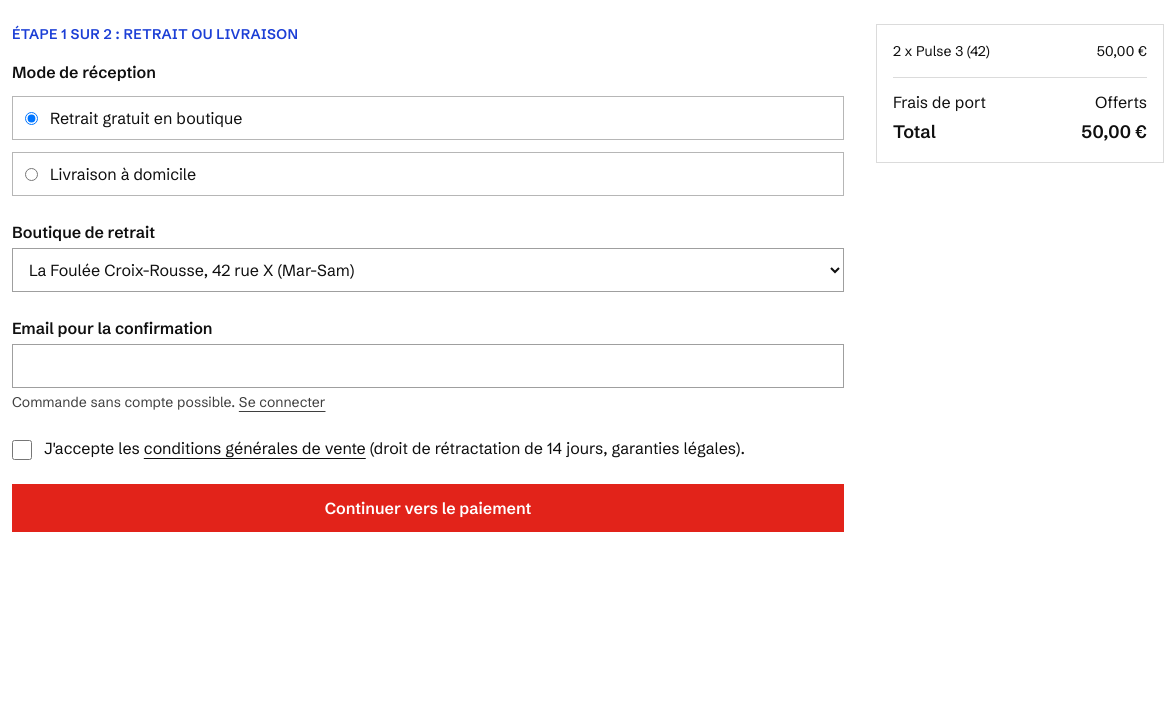
Test: Checkout (EF05, EF06) › stock épuisé entre-temps : message de l'API affiché
Type "lea@exemple.fr" into the field labelled "Email pour la confirmation".
click(428, 366); type("lea@exemple.fr")  # box top-left (12, 344), bottom-right (844, 388)
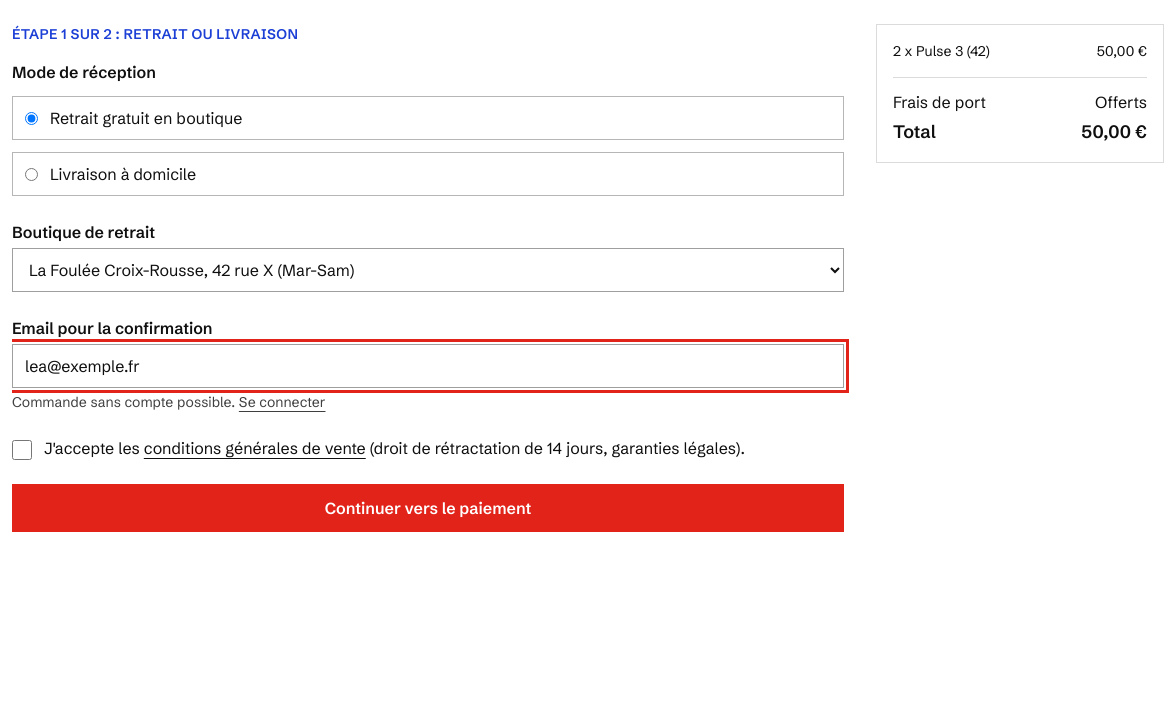
Click the checkbox labelled "conditions générales de vente".
click(22, 450)  # box top-left (12, 440), bottom-right (32, 460)
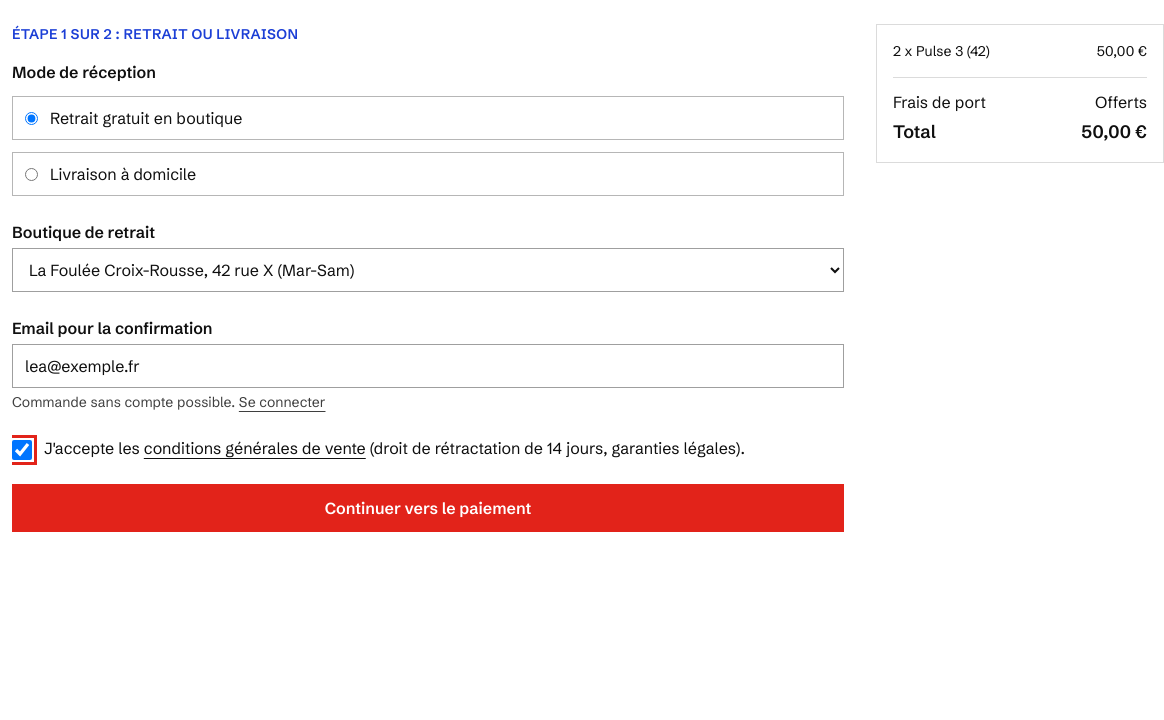
Click the button "Continuer vers le paiement".
click(428, 508)  # box top-left (12, 484), bottom-right (844, 532)
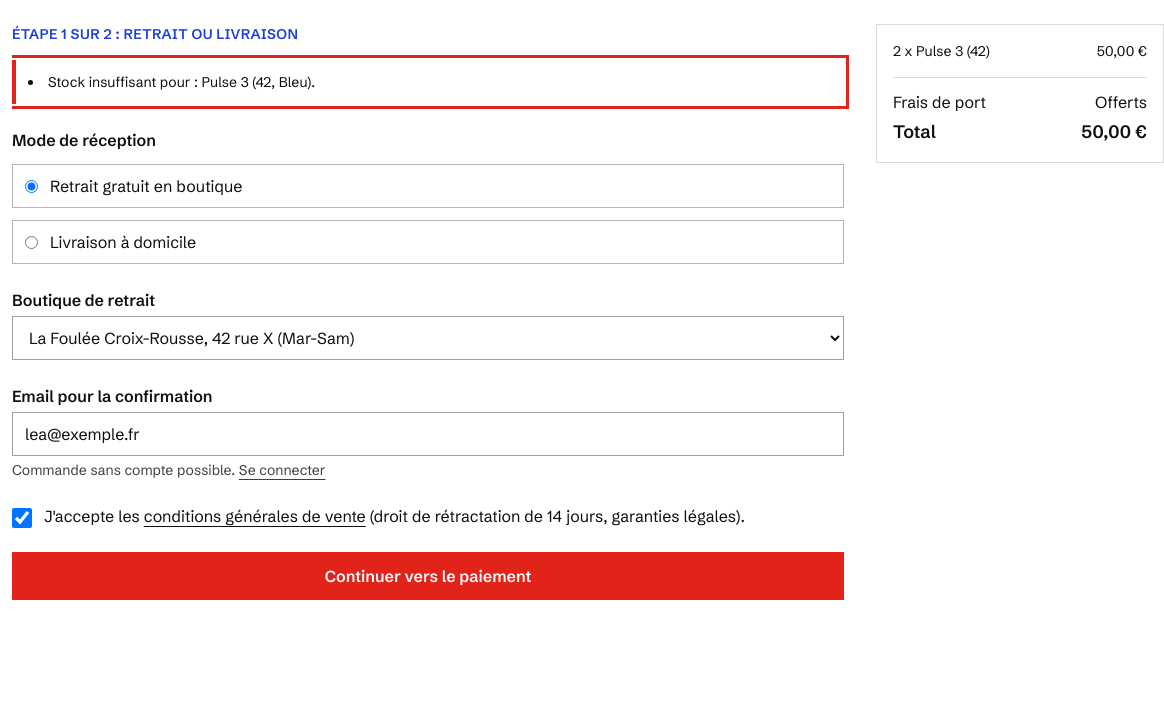
expect the message shows "Stock insuffisant": met, box top-left (48, 73), bottom-right (315, 91)
